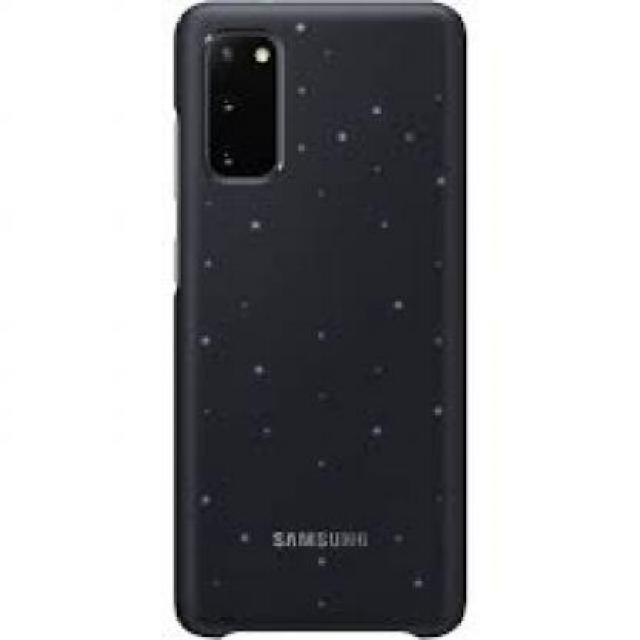phone: (174, 3, 466, 637)
